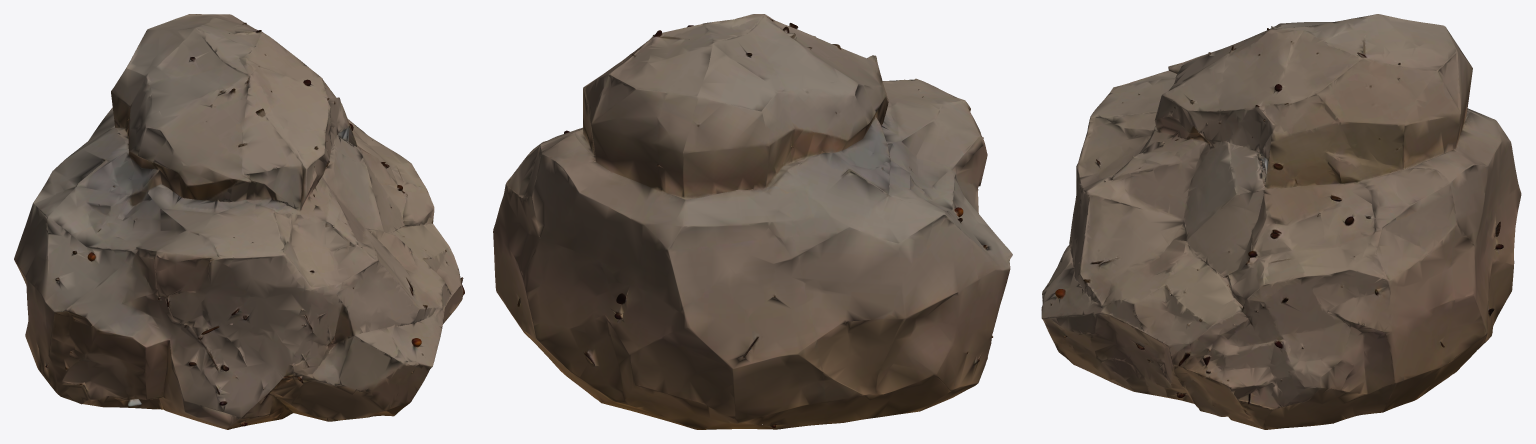
The model's file is rock_1.glb.
3 renders of one model, left to right at view 1: azimuth 30°, elevation 25°; view 2: azimuth 150°, elevation 25°; view 3: azimuth 270°, elevation 25°, orthographic. The views are drawn at different scales.
Visible parts, largest first — view 1: tripo_node_7b8dab82-d0b5-452c-8fe0-4edd6dedfb08; view 2: tripo_node_7b8dab82-d0b5-452c-8fe0-4edd6dedfb08; view 3: tripo_node_7b8dab82-d0b5-452c-8fe0-4edd6dedfb08.
Part boxes in pixels (x1,y1,x2,y2): tripo_node_7b8dab82-d0b5-452c-8fe0-4edd6dedfb08: [14, 14, 464, 429]; tripo_node_7b8dab82-d0b5-452c-8fe0-4edd6dedfb08: [493, 14, 1012, 429]; tripo_node_7b8dab82-d0b5-452c-8fe0-4edd6dedfb08: [1041, 14, 1521, 429].
Size of the model in its own units: 0.9804 by 0.7218 by 0.9487.
1 material, 1 textured.
